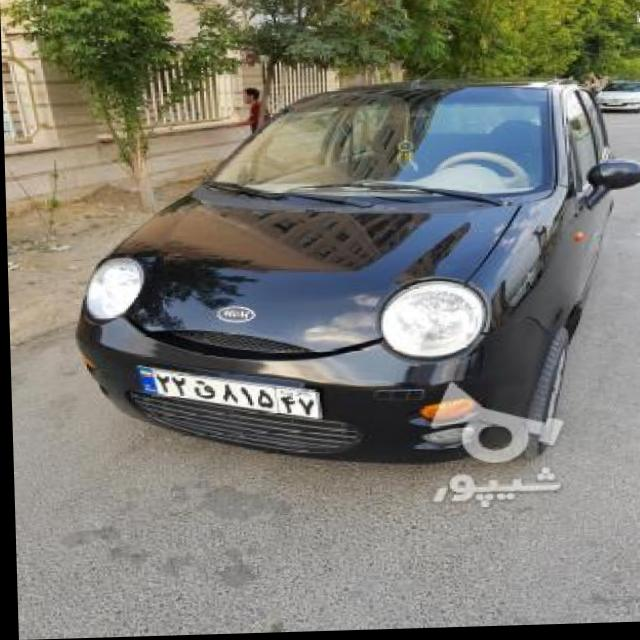licence: (132, 359, 320, 426)
